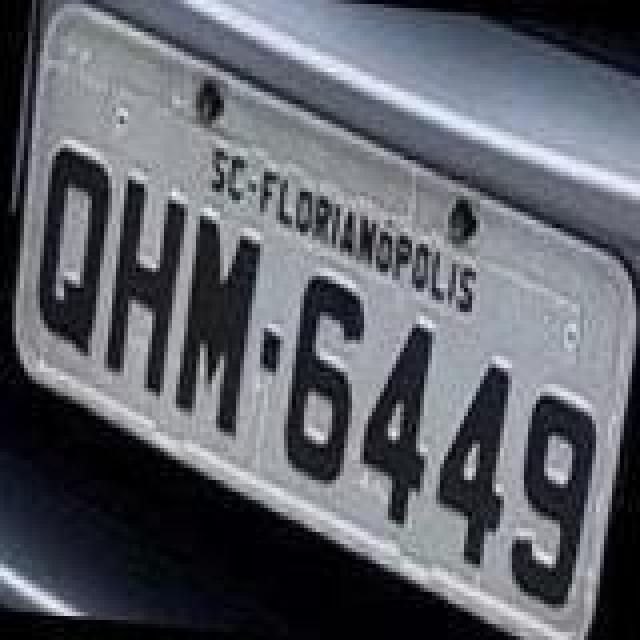4: (350, 318, 442, 530), (426, 358, 518, 570)
6: (278, 272, 370, 488)
9: (502, 390, 602, 610)
H: (98, 176, 190, 400)
M: (170, 216, 262, 440)
Q: (28, 140, 116, 356)
